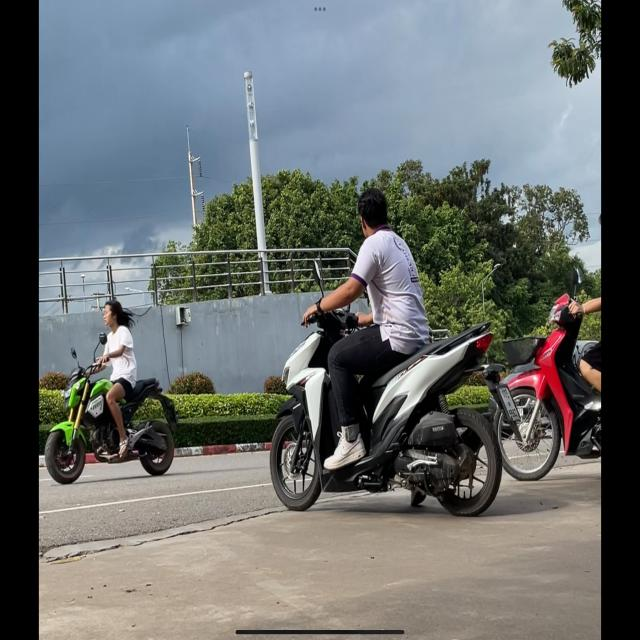seatbelt: (357, 188, 388, 240), (104, 298, 122, 328)
